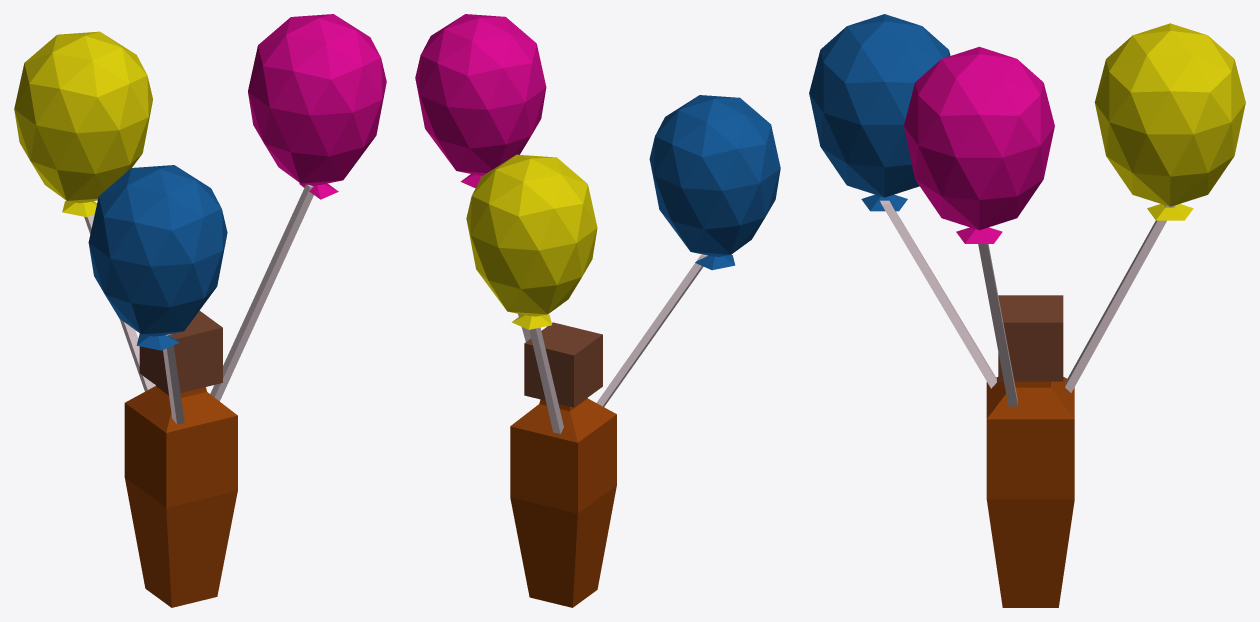
3 renders of one model, left to right at view 1: azimuth 30°, elevation 25°; view 2: azimuth 150°, elevation 25°; view 3: azimuth 270°, elevation 25°, orthographic. The views are drawn at different scales.
Parts seen in each view (by area): view 1: p1.004; view 2: p1.004; view 3: p1.004.
Part boxes in pixels (<box>): p1.004: <box>14,14,386,607</box>; p1.004: <box>415,14,780,607</box>; p1.004: <box>809,14,1245,607</box>.
Size of the model in its own units: 65.13 by 110 by 72.2.
